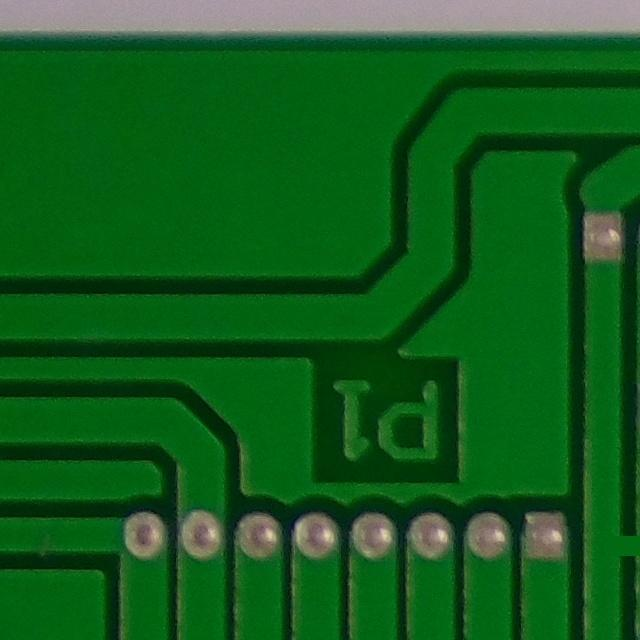short: (571, 490, 640, 608)
